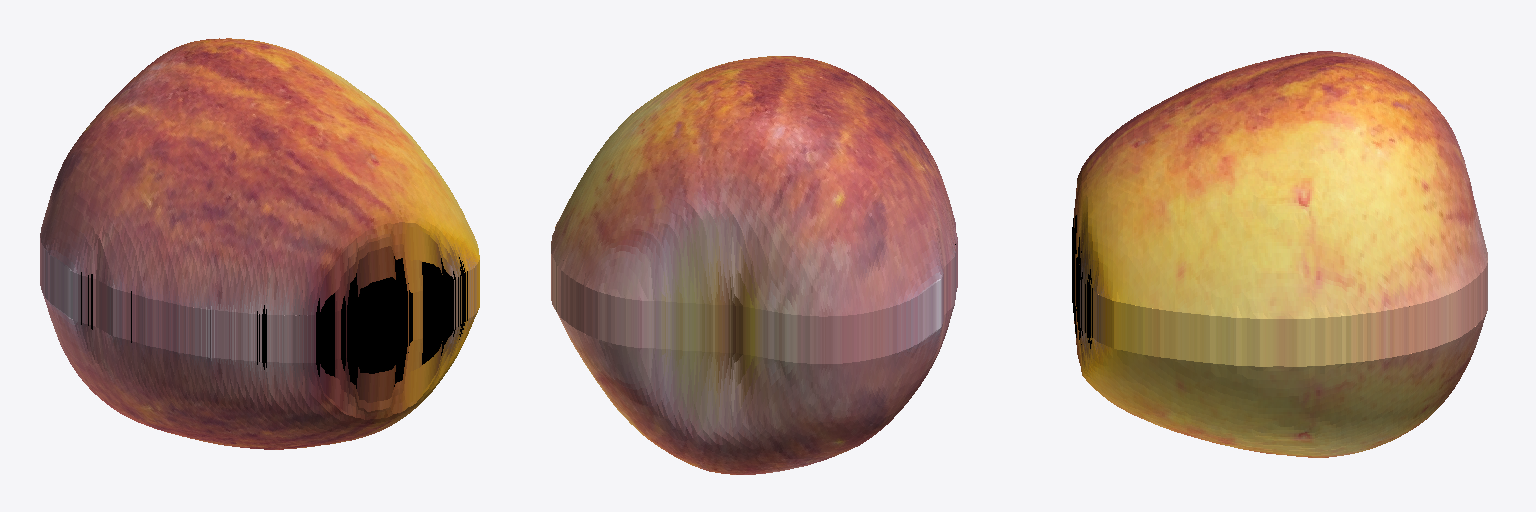
The picture shows the model from 3 angles: view 1: azimuth 30°, elevation 25°; view 2: azimuth 150°, elevation 25°; view 3: azimuth 270°, elevation 25°; orthographic projection.
Parts seen in each view (by area): view 1: Grid; view 2: Grid; view 3: Grid.
Part boxes in pixels (left/top/right/bottom): Grid: left=40, top=38, right=479, bottom=449; Grid: left=551, top=56, right=957, bottom=474; Grid: left=1072, top=51, right=1487, bottom=457.
Bounding box in the file's own units: 1.57 × 1.59 × 1.59.
1 materials, 1 textured.